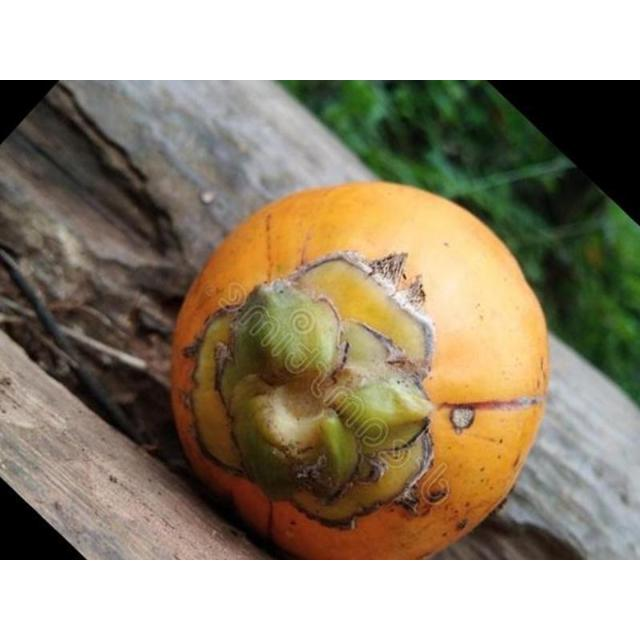good: (164, 182, 551, 559)
